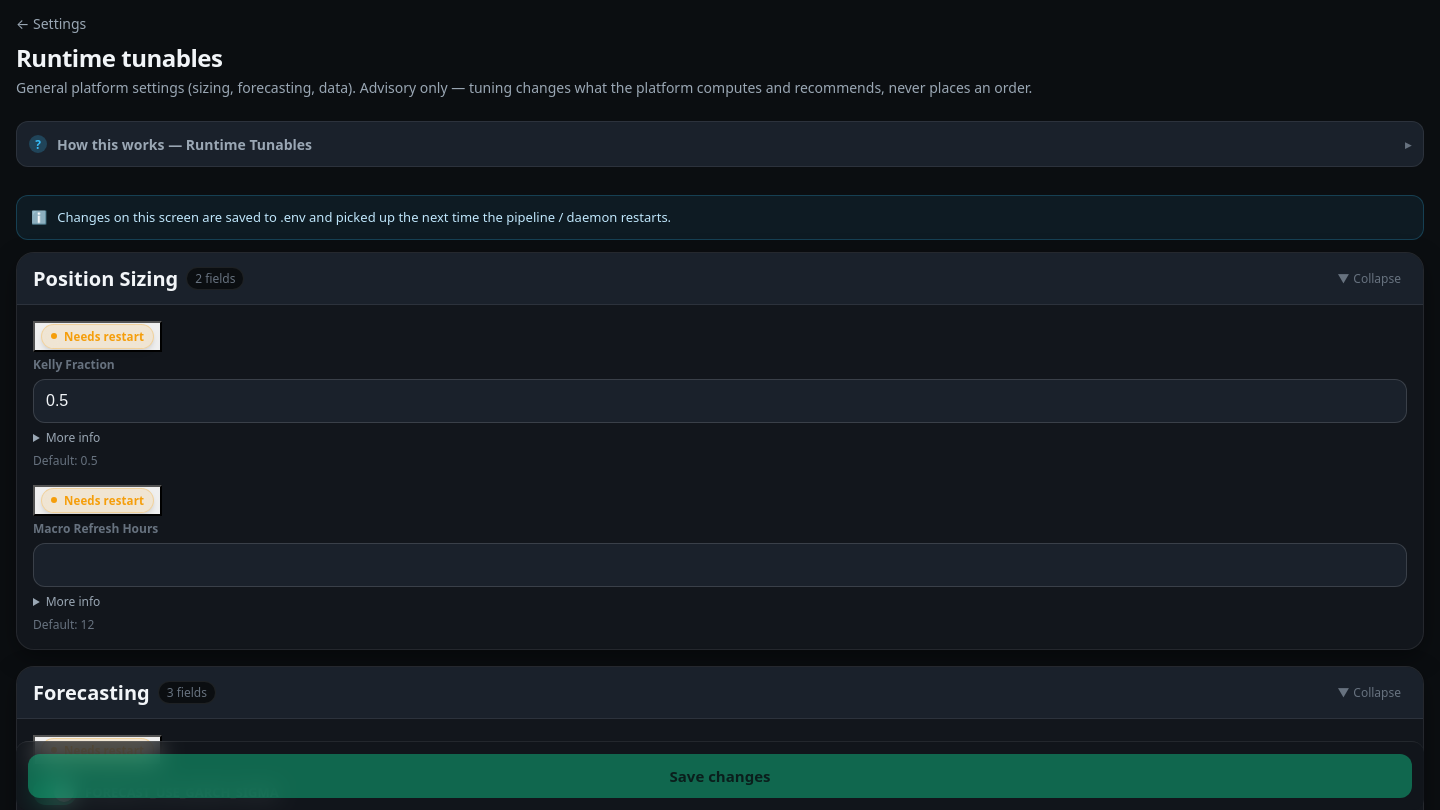
Test: SettingsManager screen › surfaces written keys and resets the dirty baseline for them
Step 1. Replace the text in the number field labelled "Kelly Fraction" with "0.6" → (720, 401), box [33,379,1407,423]
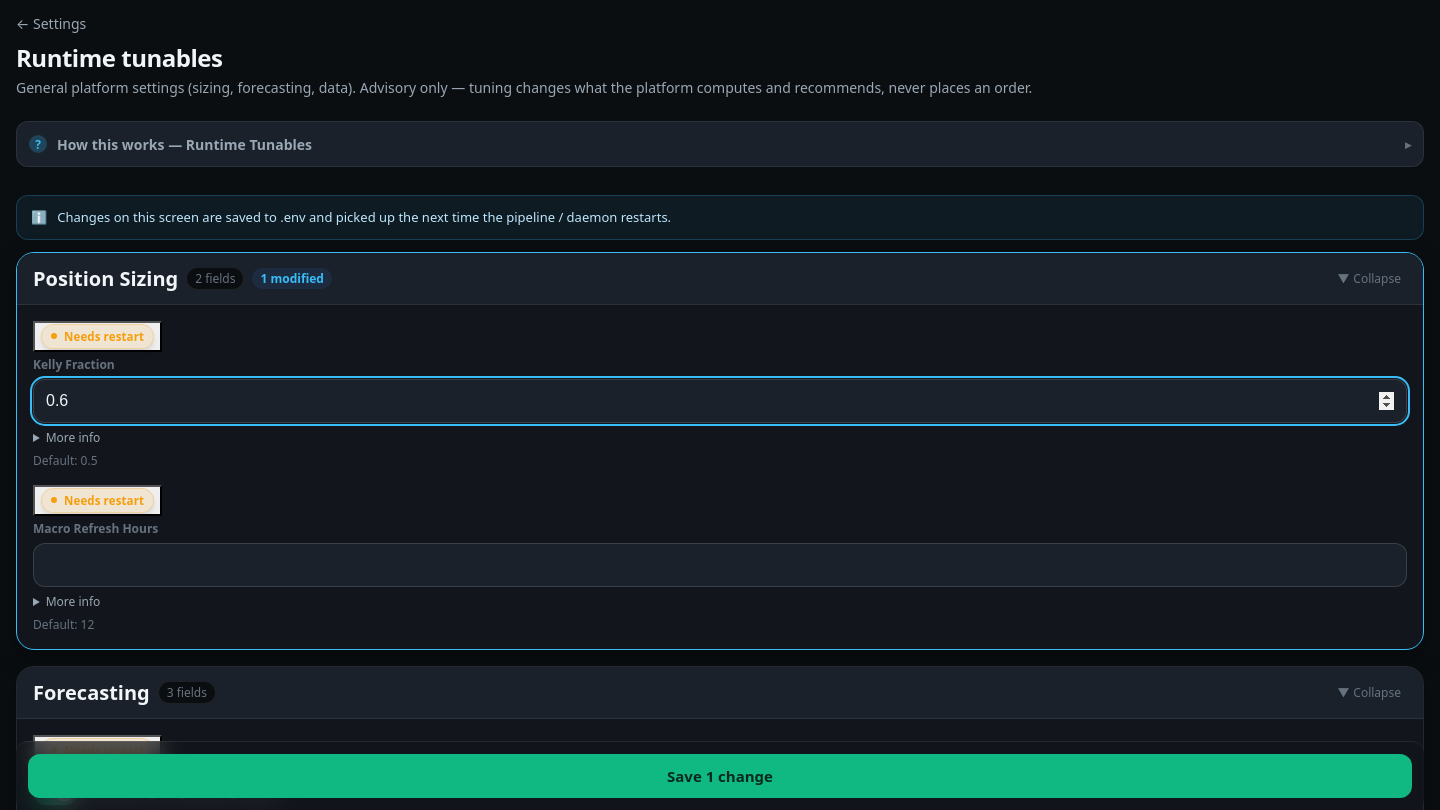
Step 2. Click the button "Save 1 change" → (720, 776), box [28,754,1412,798]
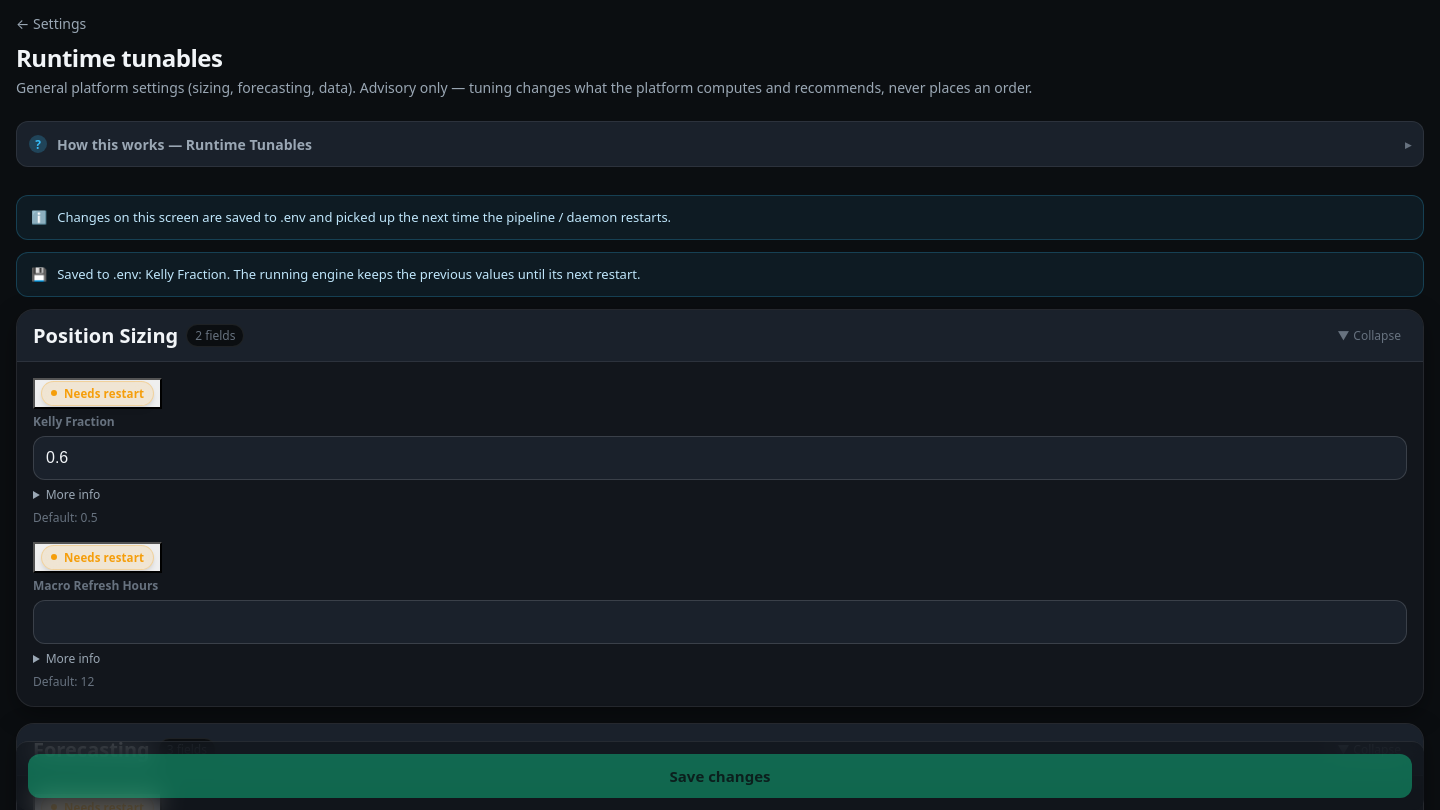
Result: the message with test id "written-notice" shows "Kelly Fraction" at [57,265,640,283]
Result: the button "Save changes" is disabled at [28,754,1412,798]
